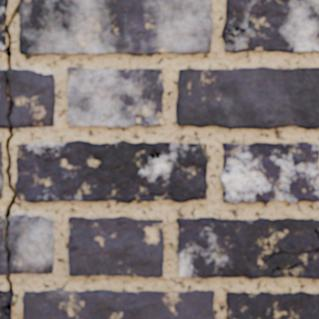brick: (16, 141, 207, 202), (19, 0, 212, 55), (176, 67, 318, 128), (177, 218, 318, 278), (221, 142, 318, 203), (68, 217, 163, 276), (68, 68, 163, 127), (23, 290, 214, 318), (222, 0, 318, 52), (227, 292, 318, 318), (0, 0, 7, 50), (0, 291, 10, 305), (0, 142, 2, 197), (0, 311, 10, 318)
broken_brick: (7, 68, 55, 128), (8, 214, 54, 274), (0, 69, 8, 128), (0, 216, 5, 275)
crack: (0, 2, 24, 316), (223, 13, 258, 40), (127, 192, 173, 202), (30, 122, 52, 126)
